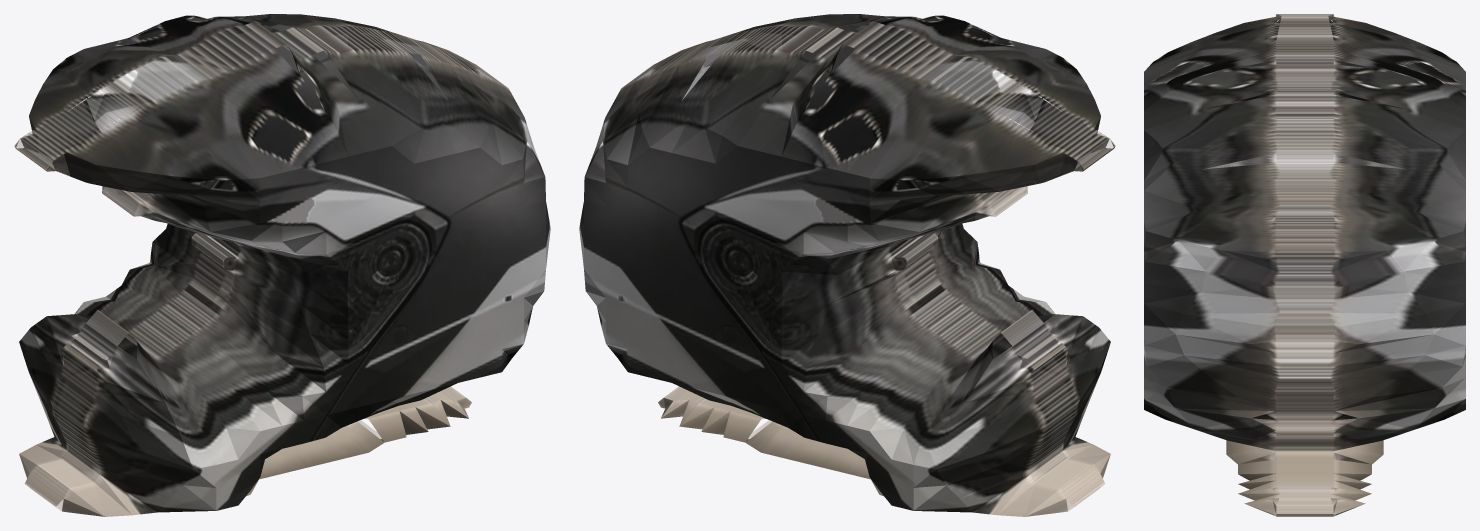
Rendered from cardo-circuit-adventure-helmet-065.glb.
3 views of the same model, side by side, from view 1: azimuth 30°, elevation 25°; view 2: azimuth 150°, elevation 25°; view 3: azimuth 270°, elevation 25° (orthographic). The views are drawn at different scales.
Visible parts, largest first — view 1: world; view 2: world; view 3: world.
Boxes of the visible parts, <box> form: world: <box>14,14,550,516</box>; world: <box>579,14,1115,516</box>; world: <box>1144,14,1465,516</box>.
Size of the model in its own units: 1 by 0.8466 by 0.64.
1 material, 1 textured.
